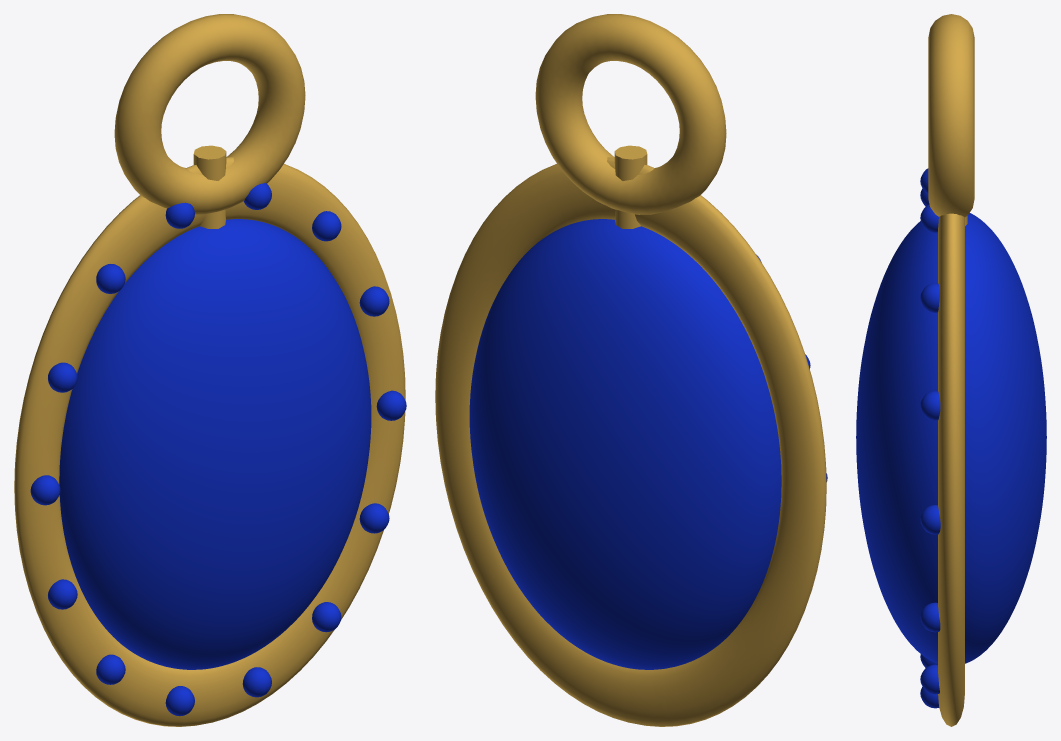
Rendered from pendant.glb.
The picture shows the model from 3 angles, left to right: view 1: azimuth 30°, elevation 25°; view 2: azimuth 150°, elevation 25°; view 3: azimuth 270°, elevation 25°; orthographic projection. The views are drawn at different scales.
Parts seen in each view (by area): view 1: gem (×13), metal (×3); view 2: gem, metal (×3); view 3: gem (×7), metal (×2).
Part boxes in pixels (<box>): gem (×13): <box>30,211,406,716</box>; metal (×3): <box>14,14,405,726</box>; gem: <box>469,219,781,669</box>; metal (×3): <box>435,14,826,726</box>; gem (×7): <box>856,204,1046,694</box>; metal (×2): <box>928,14,974,726</box>.
Size of the model in its own units: 1.62 by 2.8 by 0.704.
